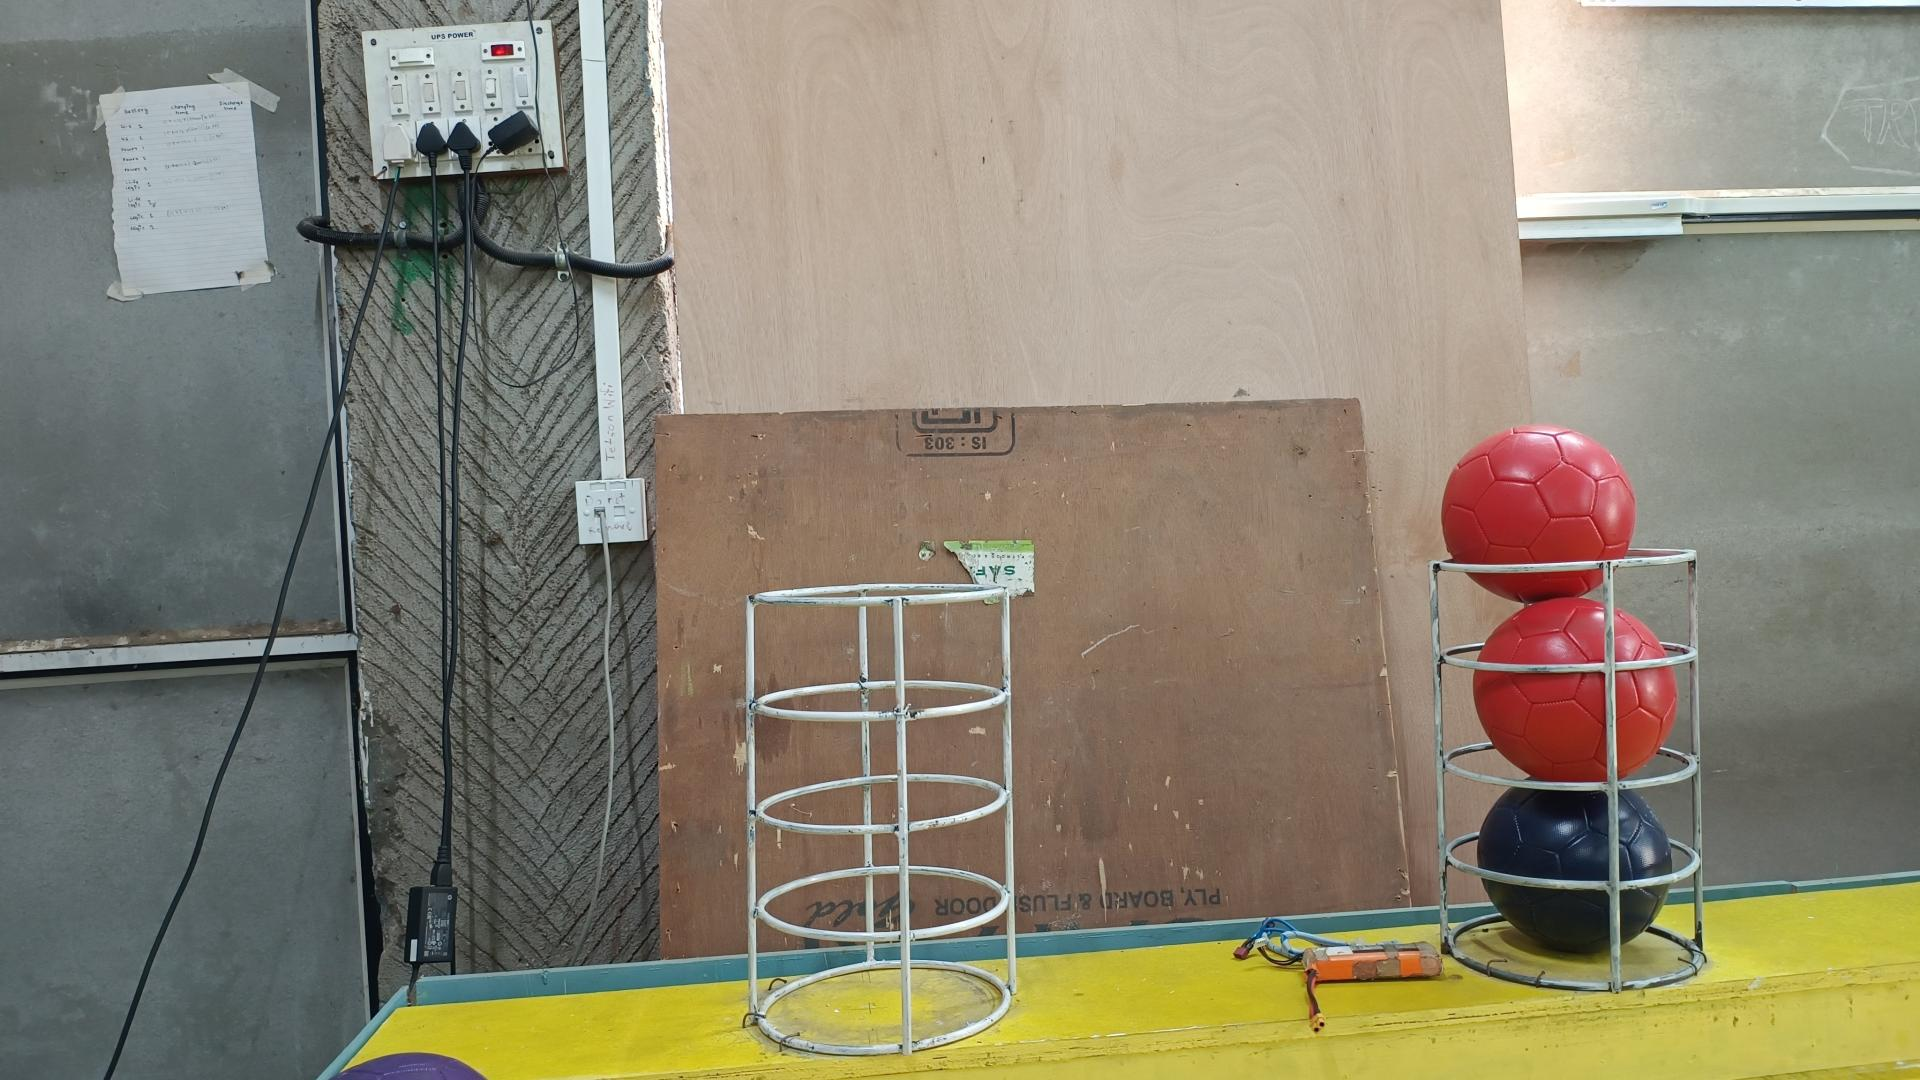dhoka: (1477, 787, 1672, 956)
laale: (1474, 596, 1680, 783), (1440, 423, 1635, 604)
